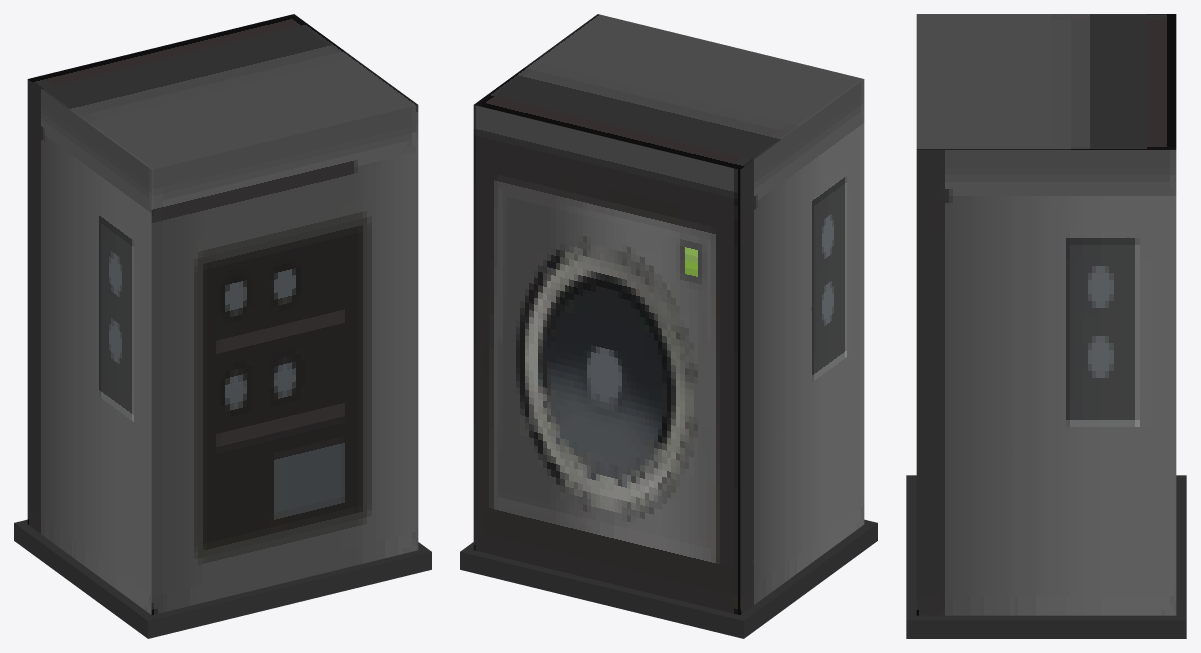
Rendered from Building_Loudspeaker.glb.
3 renders of one model, left to right at view 1: azimuth 30°, elevation 25°; view 2: azimuth 150°, elevation 25°; view 3: azimuth 270°, elevation 25°, orthographic. The views are drawn at different scales.
Visible parts, largest first — view 1: Loudspeaker; view 2: Loudspeaker; view 3: Loudspeaker.
Part boxes in pixels (x1,y1,x2,y2): Loudspeaker: (14,14,431,638); Loudspeaker: (460,14,877,638); Loudspeaker: (906,14,1186,638).
Size of the model in its own units: 0.66 by 1.03 by 0.54.
1 material, 1 textured.
